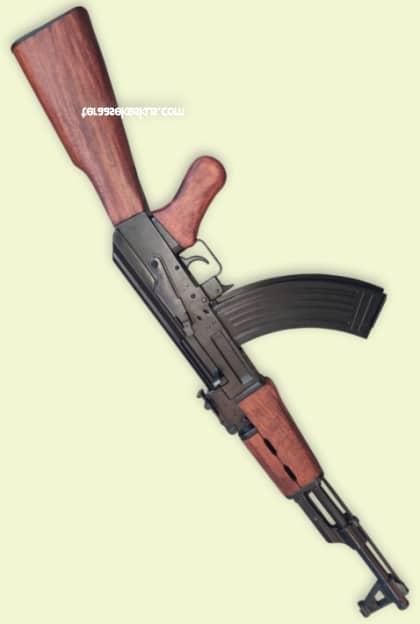larga: (9, 4, 413, 619)
